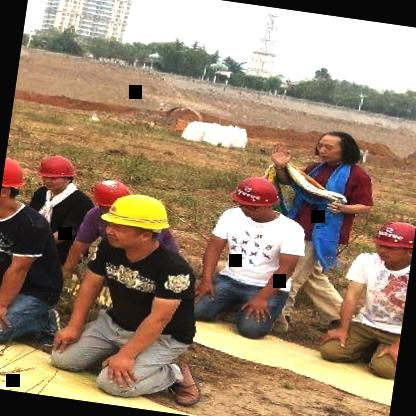helmet: (95, 186, 170, 254), (226, 172, 282, 220), (368, 216, 416, 266), (33, 150, 79, 193), (0, 152, 30, 211), (90, 174, 130, 216)
